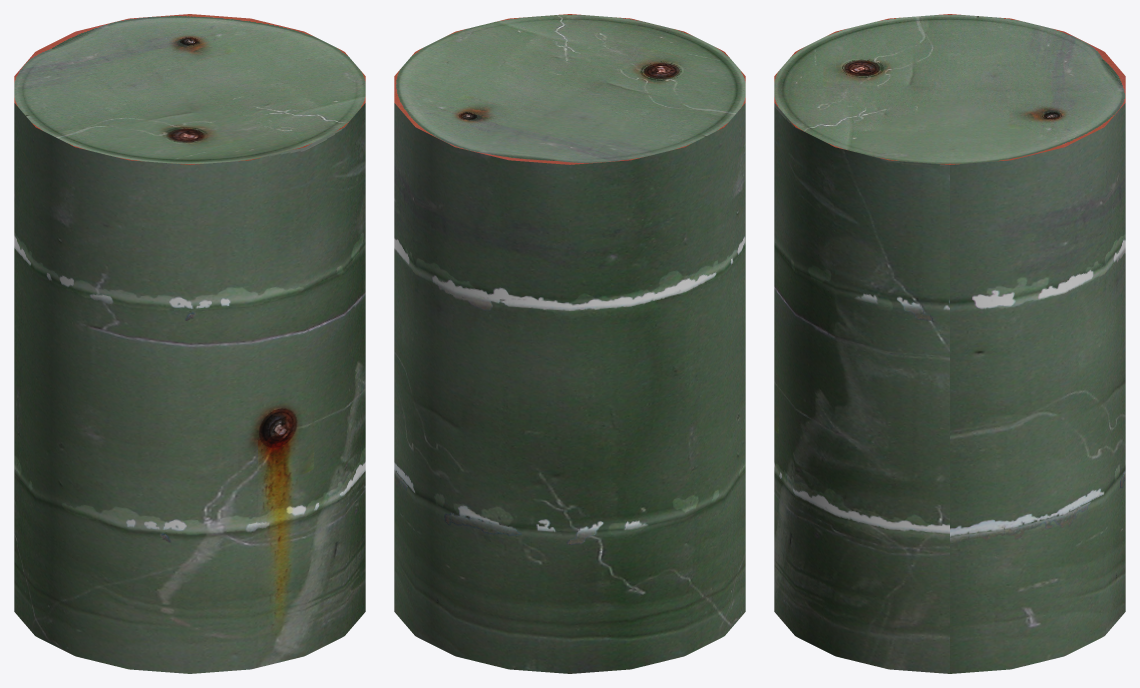
The model's file is barrel.FBX.
The picture shows the model from 3 angles, left to right: view 1: azimuth 30°, elevation 25°; view 2: azimuth 150°, elevation 25°; view 3: azimuth 270°, elevation 25°; orthographic projection.
Visible parts, largest first — view 1: Bochka_low; view 2: Bochka_low; view 3: Bochka_low.
Boxes of the visible parts, <box> form: Bochka_low: <box>14,14,365,673</box>; Bochka_low: <box>394,14,745,673</box>; Bochka_low: <box>774,14,1125,673</box>.
Size of the model in its own units: 58.52 by 92.08 by 57.63.
1 material, 1 textured.
